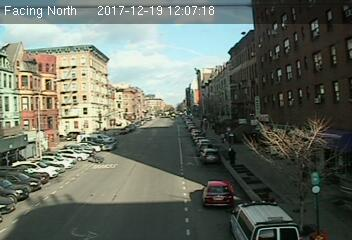car: (199, 179, 235, 207), (200, 147, 220, 165), (102, 138, 119, 151)
police: (230, 199, 301, 240)
